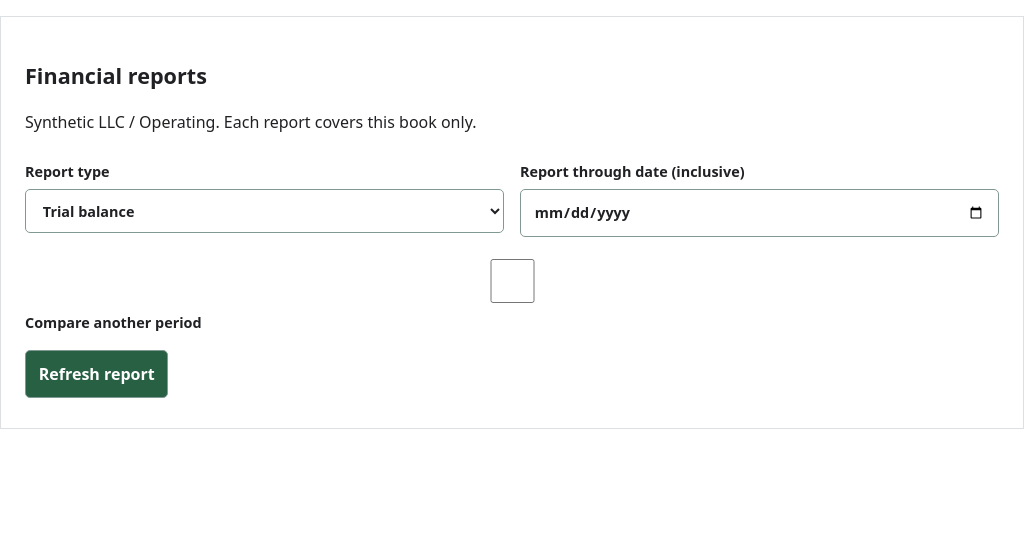
financial report review › rejects incompatible report contract {"contract_version":"future-v2"}
The image size is (1024, 535).
Type "2026-01-31" into the date field labelled "Report through date (inclusive)" at point(760, 213), box [520,189,999,236]
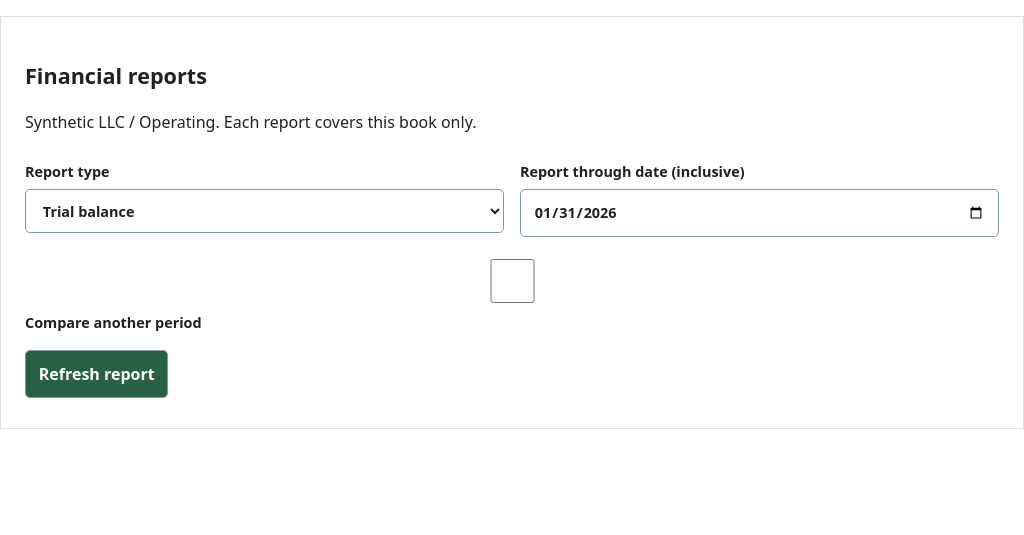
Click the button "Refresh report" at point(97, 374), box [25,350,168,398]
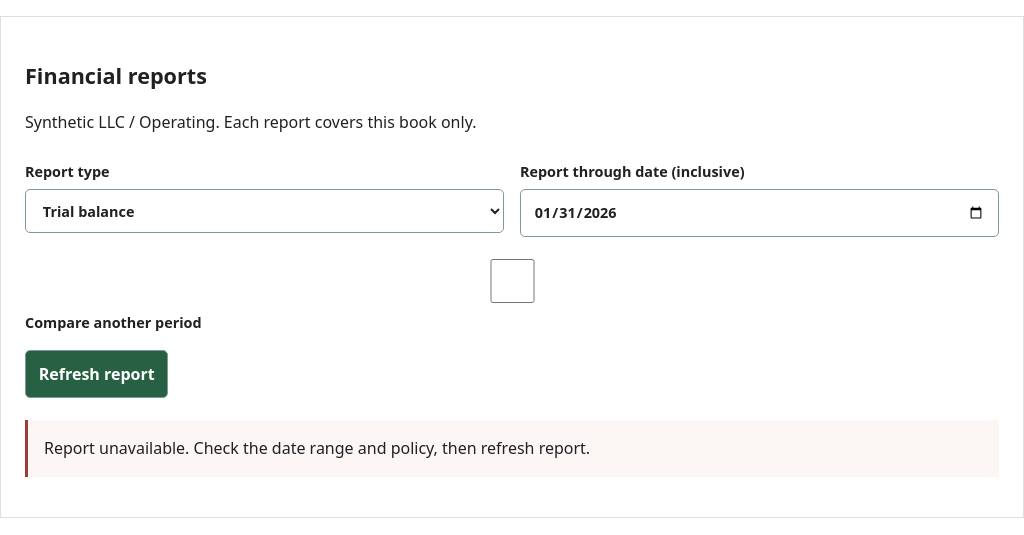
expect the message "Report unavailable. Check the date range and policy, then refresh report." is shown: met, box [25,420,999,477]
